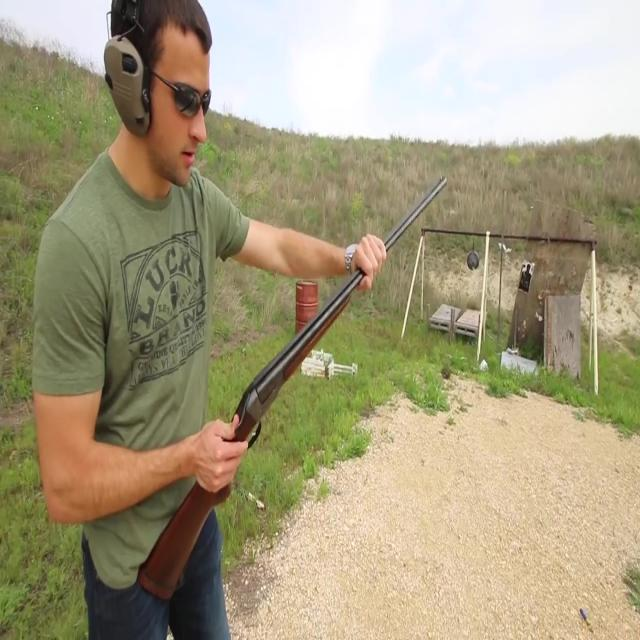Weapon: (139, 159, 456, 604)
